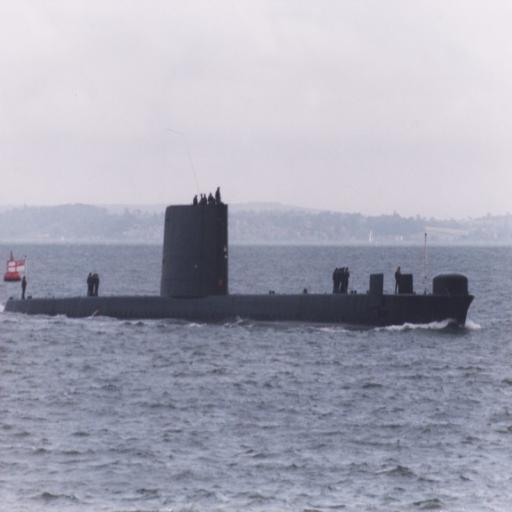submarine: (4, 202, 474, 332)
